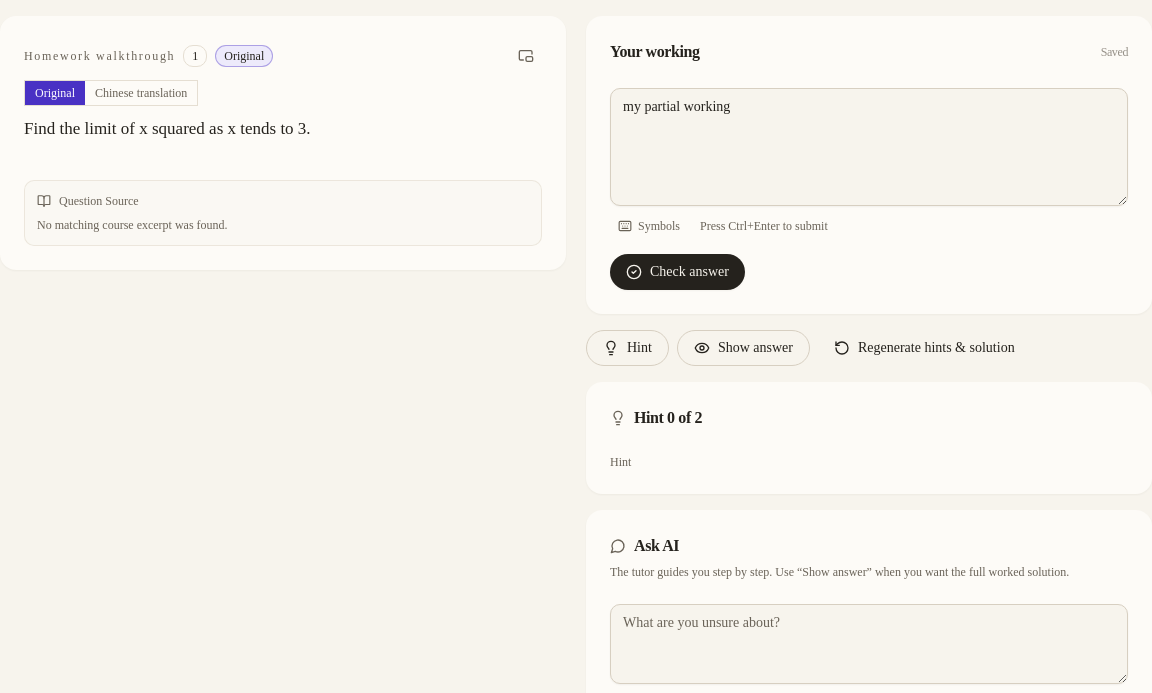
HomeworkQuestionView › checks the current draft and shows an AI similarity estimate with its disclaimer
The width and height of the screenshot is (1152, 693).
Click the button "Check answer": [677, 272] box [610, 254, 745, 290]
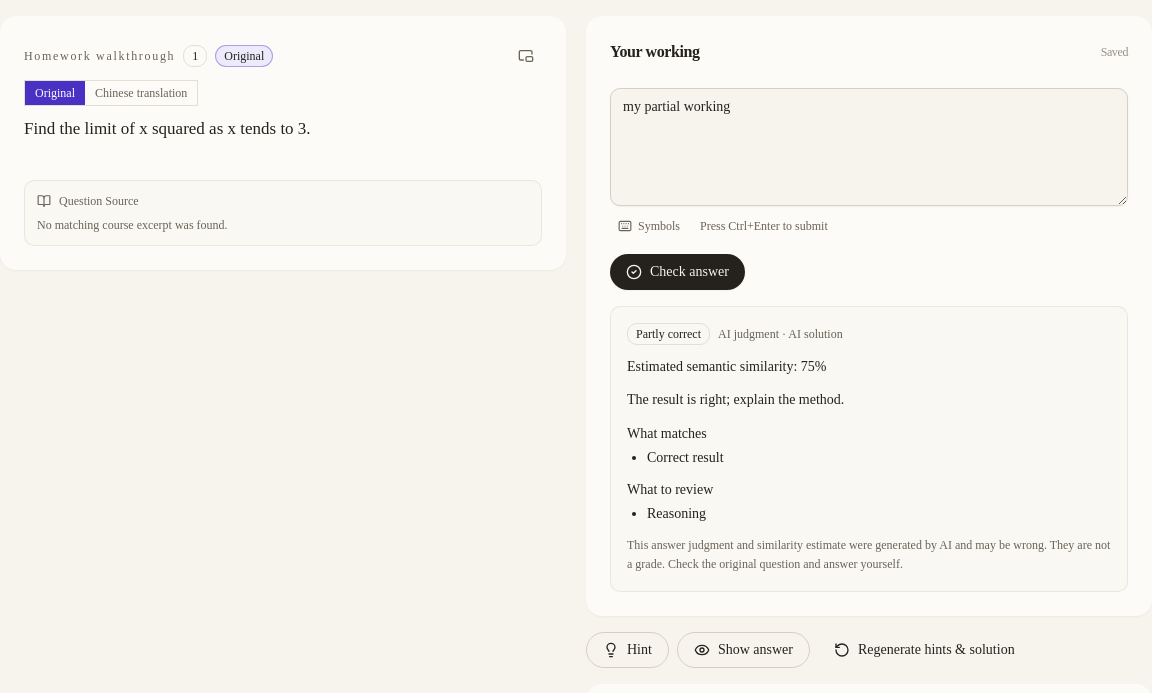
Now the text "Estimated semantic similarity: 75%" is shown, box [627, 359, 826, 374]
Now the text "generated by AI and may be wrong" is shown, box [627, 538, 1110, 571]
In the text box named "Your working": [869, 147] box [610, 88, 1128, 206], type " more work"
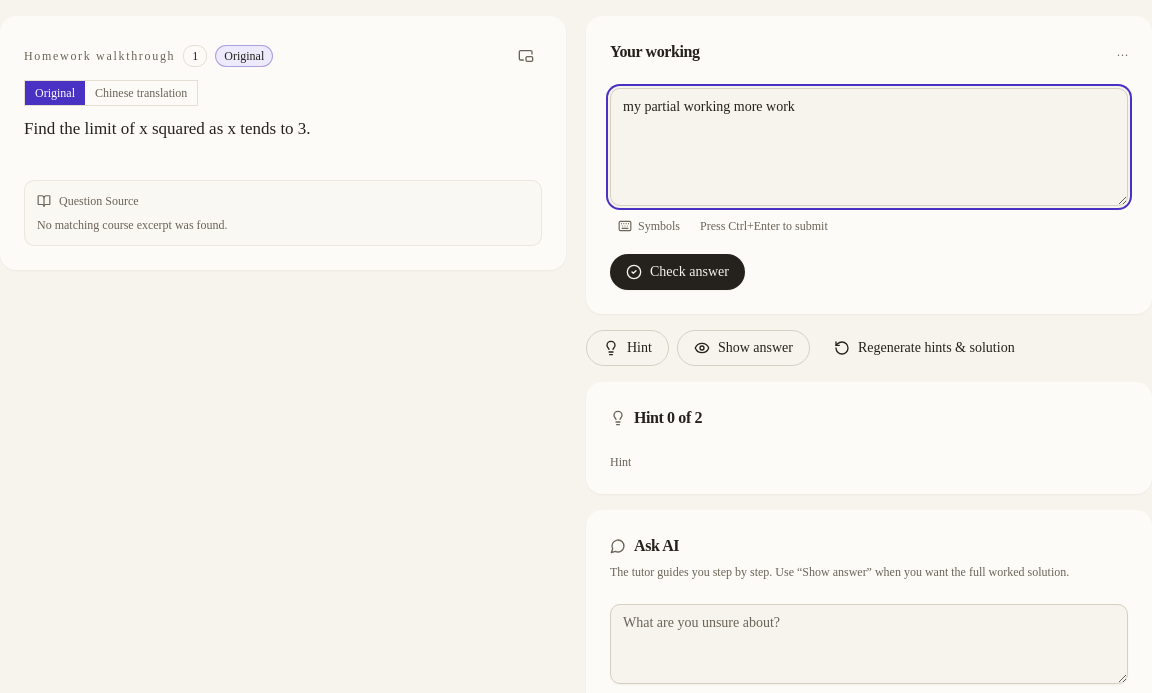
Now the text "Estimated semantic similarity" is gone
